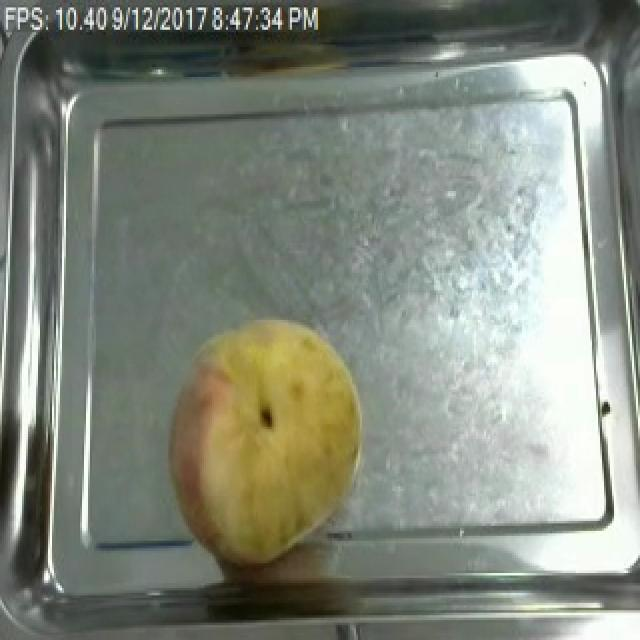Fruit: (162, 310, 374, 571)
